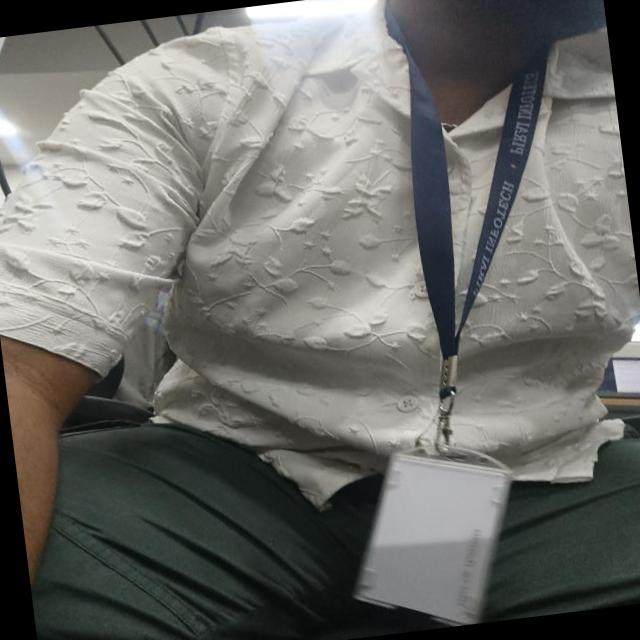id_card: (295, 2, 622, 634)
